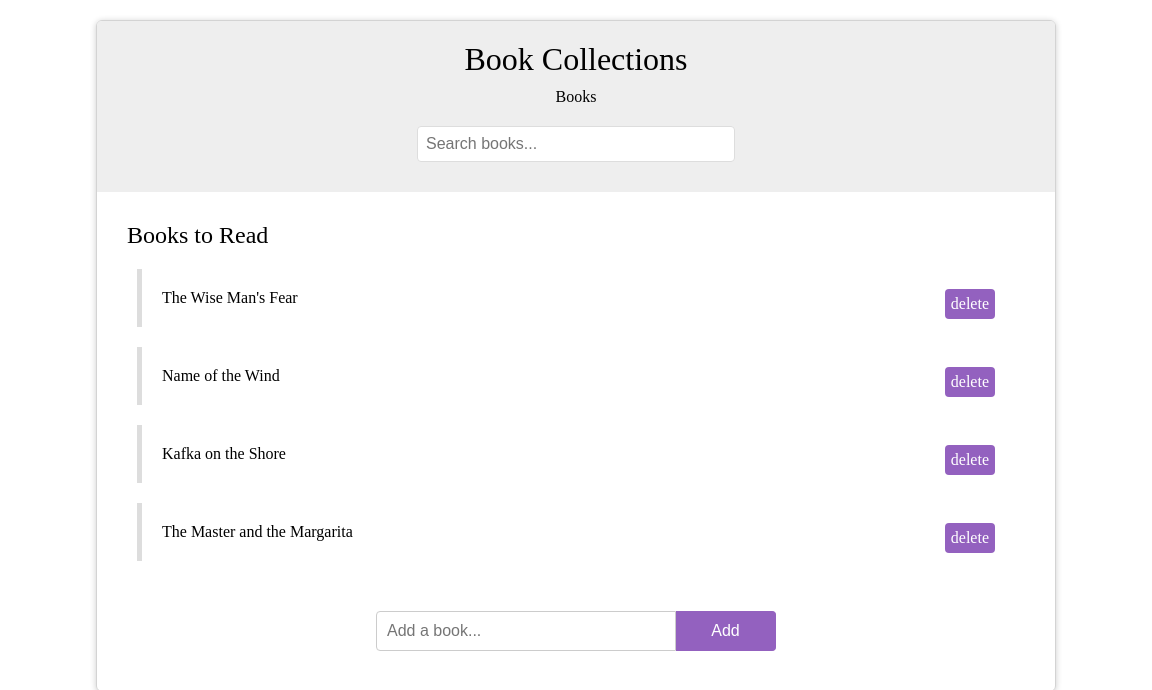
Test: that I can add a book
In the field with placeholder "Add a book...": x=526, y=631 [376,611,676,651], type "Eze goes to school"
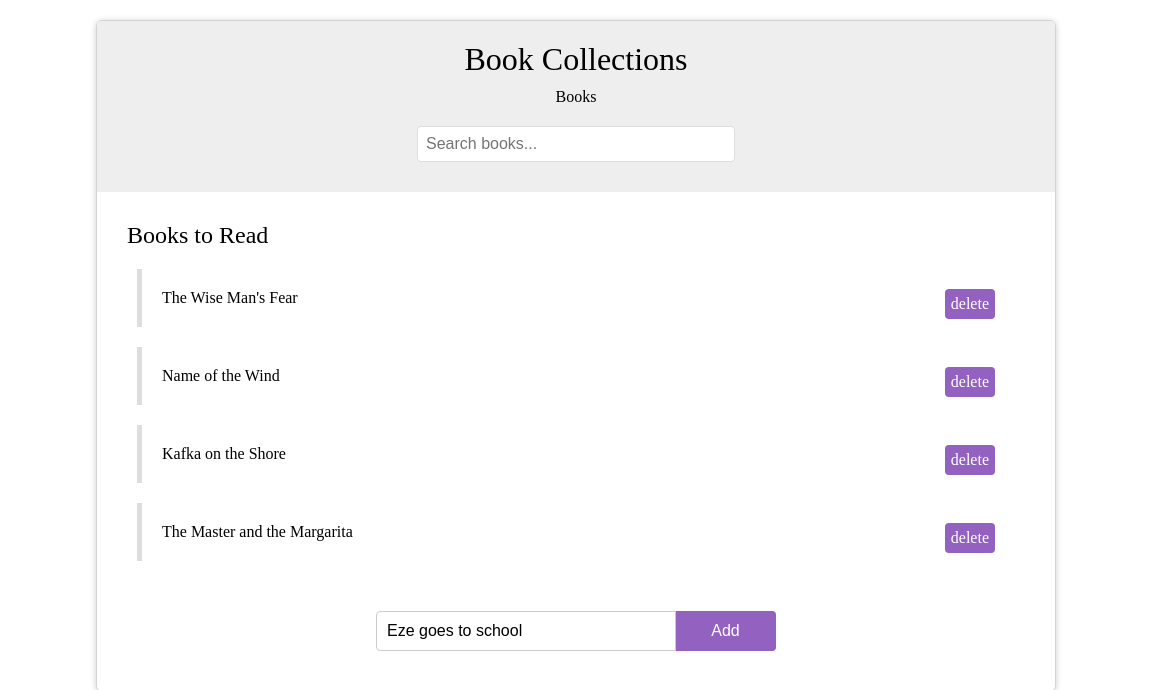
Submit the form with placeholder "add a book", box [376,611,776,651]
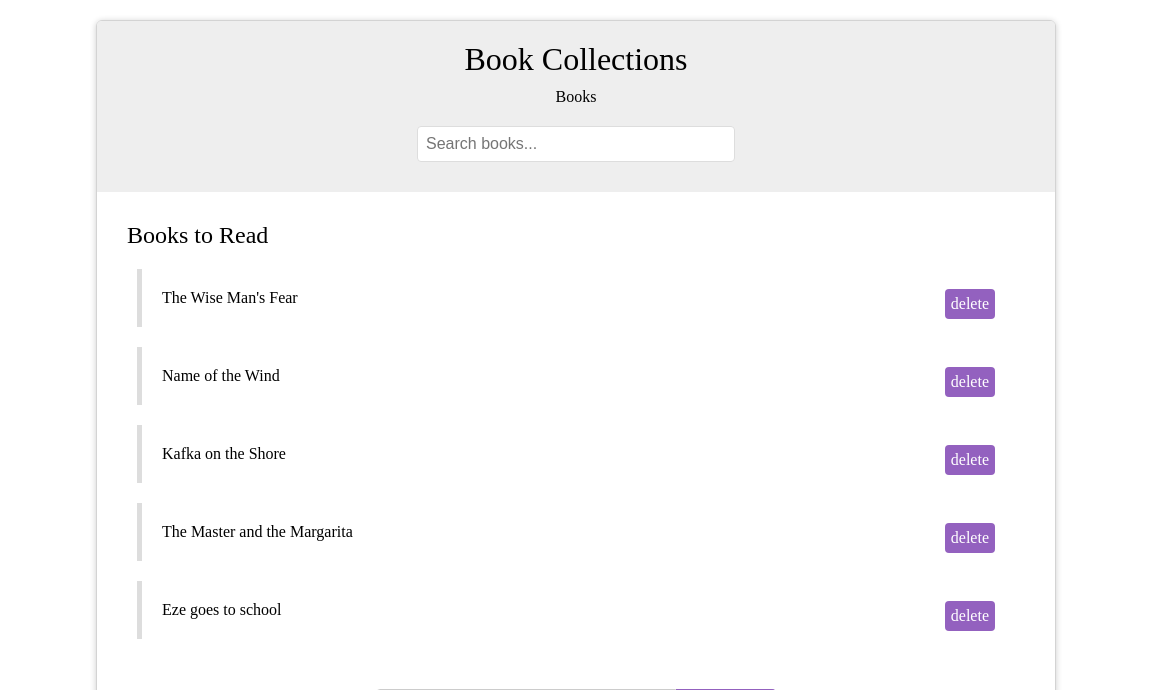
Check: the text "Eze goes to school" is shown, box [162,601,282,618]
